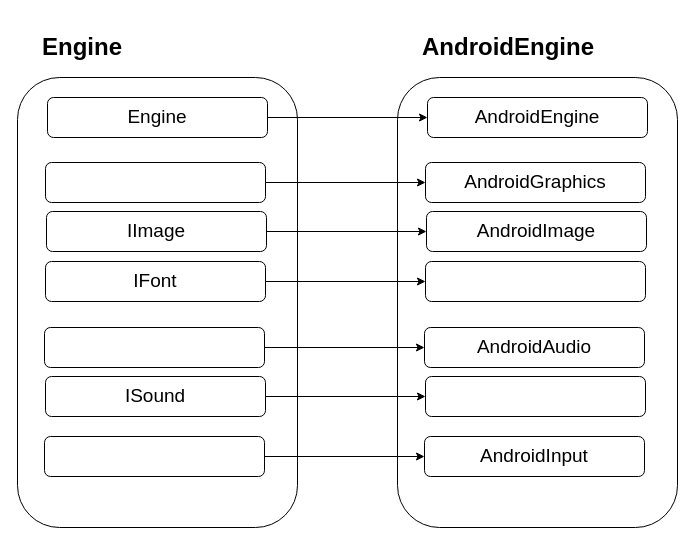
Some shapes in this 695 by 545 pixel diagram are drawn without their labels. Here are the shapes that lost their labels. From the top down, the centre of each, then its label:
At [155,182]: "IGraphics".
At [535,281]: "Android Font".
At [154,347]: "IAudio".
At [535,396]: "Android Sound".
At [154,456]: "IInput".
